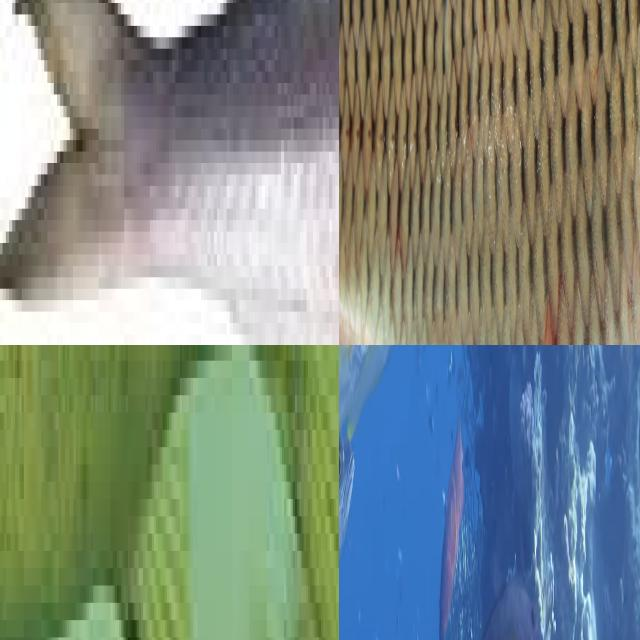fish: (0, 0, 339, 345), (0, 412, 125, 640)
